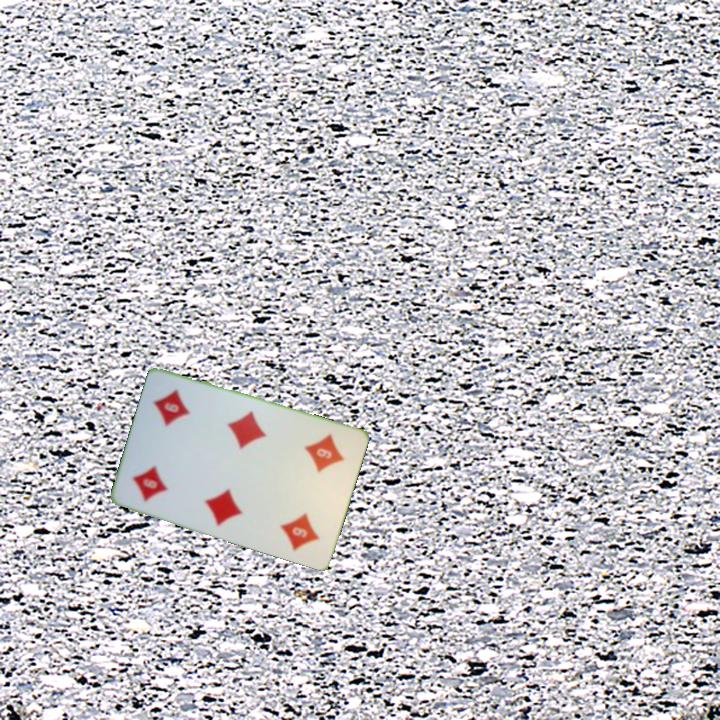d_6.png: (120, 435, 194, 515), (284, 422, 358, 501)
